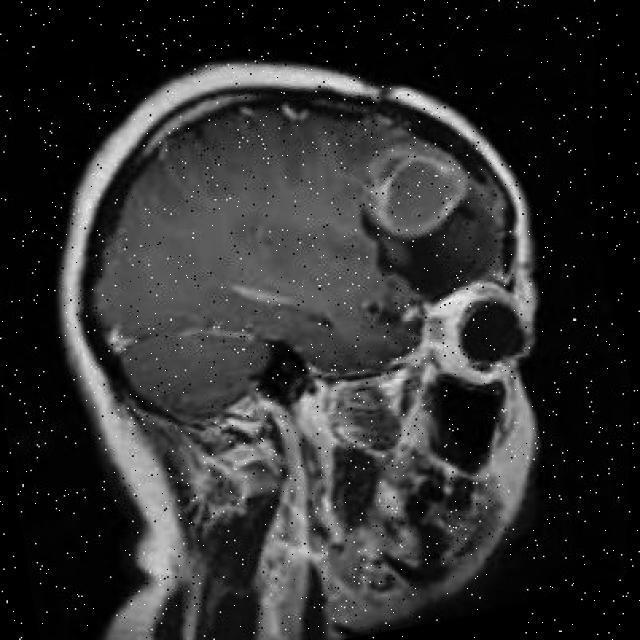MCI: (340, 127, 482, 263)
